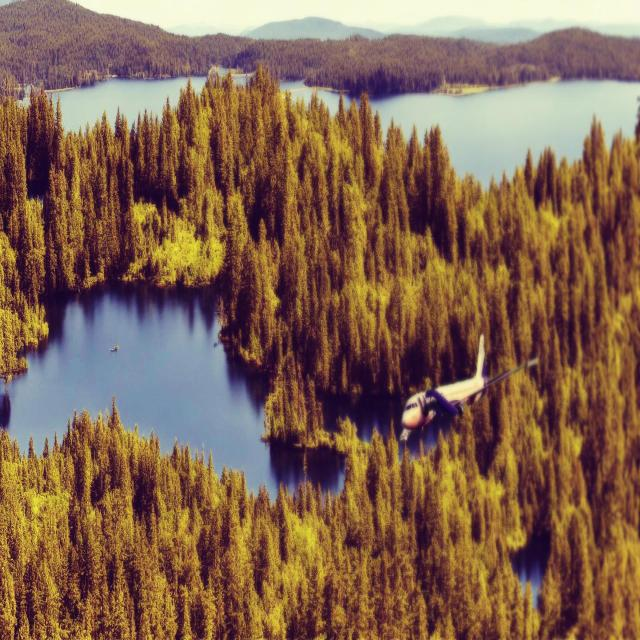airplane: (399, 333, 539, 442)
